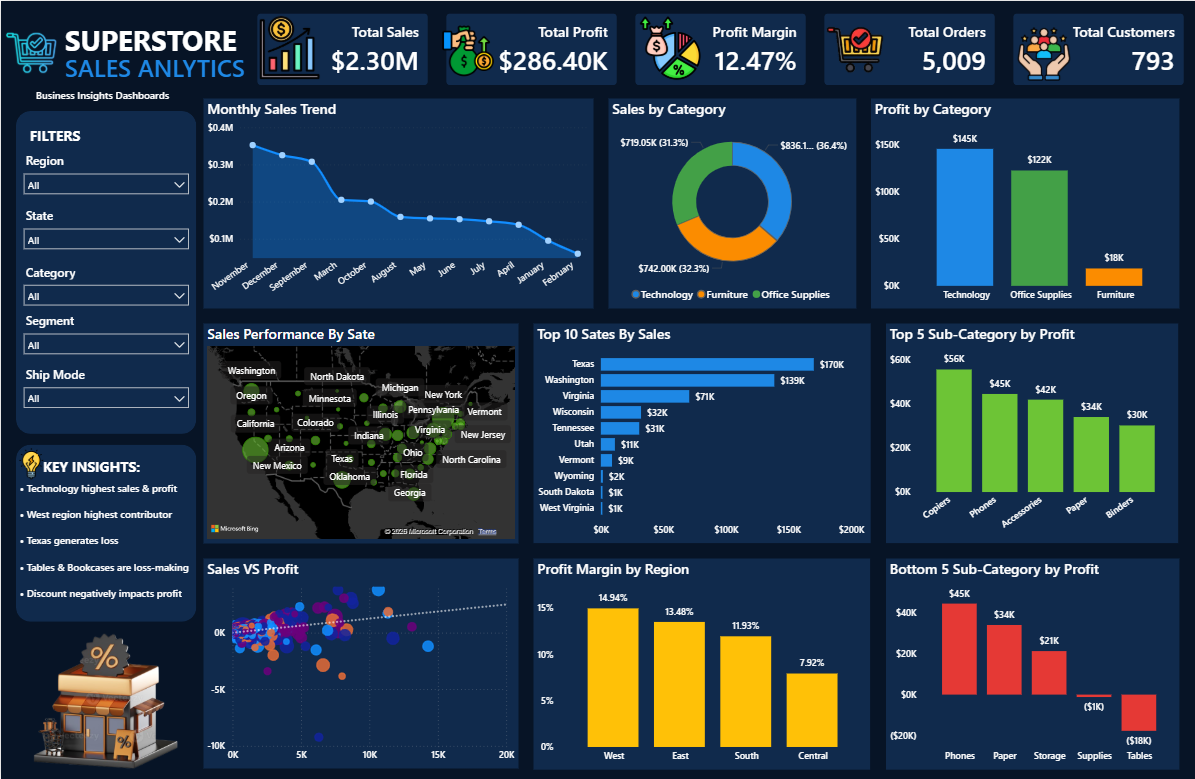

The page's visual inventory and layout, read from the dashboard file:
{"tool":"powerbi","page":{"name":"Page 1","canvas":[1600,1039],"ordinal":0},"visuals":[{"type":"cardVisual","fields":{"Data":["public superstore.Total Sales","public superstore.Total Profit","public superstore.Profit Margin","public superstore.Total Orders","public superstore.Total Customers"]},"box":[325.6,0,1273.6,129.3],"z":0},{"type":"lineChart","title":"Monthly Sales Trend","fields":{"Y":["public superstore.Total Sales"],"Category":["public superstore.order_month_name"]},"box":[270,130,520,280],"z":1000},{"type":"donutChart","title":"Sales by Category","fields":{"Category":["public superstore.category"],"Y":["public superstore.Total Sales"]},"box":[810,130,330,280],"z":2000},{"type":"clusteredColumnChart","title":"Profit by Category","fields":{"Category":["public superstore.category"],"Y":["public superstore.Total Profit"]},"box":[1159.5,129.3,410.9,280],"z":3000},{"type":"map","title":"Sales  Performance By Sate","fields":{"Category":["public superstore.state"],"Size":["public superstore.Total Sales"]},"box":[269.5,430.6,420.3,292.9],"z":4000},{"type":"clusteredBarChart","title":"Top 10 Sates By Sales","fields":{"Category":["public superstore.state"],"Y":["public superstore.Total Sales"]},"box":[710.3,430.6,449.6,292.9],"z":5000},{"type":"clusteredColumnChart","title":"Top 5 Sub-Category by Profit","fields":{"Category":["public superstore.sub_category"],"Y":["public superstore.Total Profit"]},"box":[1180.4,430.6,389.6,292.9],"z":6000},{"type":"clusteredColumnChart","title":"Bottom 5 Sub-Category by Profit","fields":{"Category":["public superstore.sub_category"],"Y":["public superstore.Total Profit"]},"box":[1179.3,742.6,391.1,281.5],"z":7000},{"type":"clusteredColumnChart","title":"Profit Margin by Region","fields":{"Category":["public superstore.region"],"Y":["public superstore.Profit Margin"]},"box":[710.6,742.6,448.9,281.5],"z":8000},{"type":"scatterChart","title":"Sales VS Profit","fields":{"Category":["public superstore.product_name"],"X":["Sum(public superstore.sales)"],"Y":["Sum(public superstore.profit)"],"Size":["Sum(public superstore.quantity)"],"Series":["public superstore.region"]},"box":[269.3,742.6,420,280],"z":9000},{"type":"textbox","box":[80.6,21.3,245,83.7],"z":10000},{"type":"textbox","box":[80.6,62.4,275.4,57.8],"z":11000},{"type":"textbox","box":[41.1,111.1,197.8,35],"z":12000},{"type":"shape","box":[19.8,146.1,240.4,430.6],"z":13000},{"type":"image","box":[0,18.3,80.6,102],"z":14000},{"type":"textbox","box":[33.5,161.3,121.7,47.2],"z":15000},{"type":"slicer","fields":{"Values":["public superstore.region"]},"box":[19.8,196.3,240.4,73],"z":16000},{"type":"slicer","fields":{"Values":["public superstore.state"]},"box":[19.8,269.3,240.4,70],"z":17000},{"type":"slicer","fields":{"Values":["public superstore.category"]},"box":[19.8,345.4,240.4,63.9],"z":18000},{"type":"slicer","fields":{"Values":["public superstore.segment"]},"box":[19.8,409.3,240.4,73],"z":19000},{"type":"slicer","fields":{"Values":["public superstore.ship_mode"]},"box":[19.8,482.4,240.4,70],"z":20000},{"type":"shape","box":[19.8,591.9,240.4,235.9],"z":21000},{"type":"textbox","box":[19.8,634.5,240.4,178],"z":22000},{"type":"textbox","box":[19.8,602.6,170.4,47.2],"z":23000},{"type":"image","box":[19.8,582.8,41.1,67],"z":24000},{"type":"image","box":[342.4,13.7,86.7,97.4],"z":25000},{"type":"image","box":[588.9,21.3,68.5,89.8],"z":26000},{"type":"image","box":[847.6,19.8,88.3,85.2],"z":27000},{"type":"image","box":[1098.7,15.2,80.6,100.4],"z":28000},{"type":"image","box":[1354.3,24.3,71.5,91.3],"z":29000},{"type":"image","box":[19.8,827.8,240.4,211.5],"z":30000},{"type":"cardVisual","fields":{"Data":["public superstore.Total Sales"]},"box":[902.6,229.7,145.3,78.5],"z":31000}]}

Visuals, with their boxes in screenshot pixels (x1, y1, x2, y2), scaled from the page's 1600x1039 canvas onto the 1195x779 screenshot:
cardVisual - public superstore.Total Sales x public superstore.Total Profit: bbox=[243, 0, 1194, 97]
"Monthly Sales Trend" lineChart: bbox=[202, 97, 590, 307]
"Sales by Category" donutChart: bbox=[605, 97, 851, 307]
"Profit by Category" clusteredColumnChart: bbox=[866, 97, 1173, 307]
"Sales  Performance By Sate" map: bbox=[201, 323, 515, 542]
"Top 10 Sates By Sales" clusteredBarChart: bbox=[531, 323, 866, 542]
"Top 5 Sub-Category by Profit" clusteredColumnChart: bbox=[882, 323, 1173, 542]
"Bottom 5 Sub-Category by Profit" clusteredColumnChart: bbox=[881, 557, 1173, 768]
"Profit Margin by Region" clusteredColumnChart: bbox=[531, 557, 866, 768]
"Sales VS Profit" scatterChart: bbox=[201, 557, 515, 767]
textbox: bbox=[60, 16, 243, 79]
textbox: bbox=[60, 47, 266, 90]
textbox: bbox=[31, 83, 178, 110]
shape: bbox=[15, 110, 194, 432]
image: bbox=[0, 14, 60, 90]
textbox: bbox=[25, 121, 116, 156]
slicer - public superstore.region: bbox=[15, 147, 194, 202]
slicer - public superstore.state: bbox=[15, 202, 194, 254]
slicer - public superstore.category: bbox=[15, 259, 194, 307]
slicer - public superstore.segment: bbox=[15, 307, 194, 362]
slicer - public superstore.ship_mode: bbox=[15, 362, 194, 414]
shape: bbox=[15, 444, 194, 621]
textbox: bbox=[15, 476, 194, 609]
textbox: bbox=[15, 452, 142, 487]
image: bbox=[15, 437, 45, 487]
image: bbox=[256, 10, 320, 83]
image: bbox=[440, 16, 491, 83]
image: bbox=[633, 15, 699, 79]
image: bbox=[821, 11, 881, 87]
image: bbox=[1011, 18, 1065, 87]
image: bbox=[15, 621, 194, 778]
cardVisual - public superstore.Total Sales: bbox=[674, 172, 783, 231]
